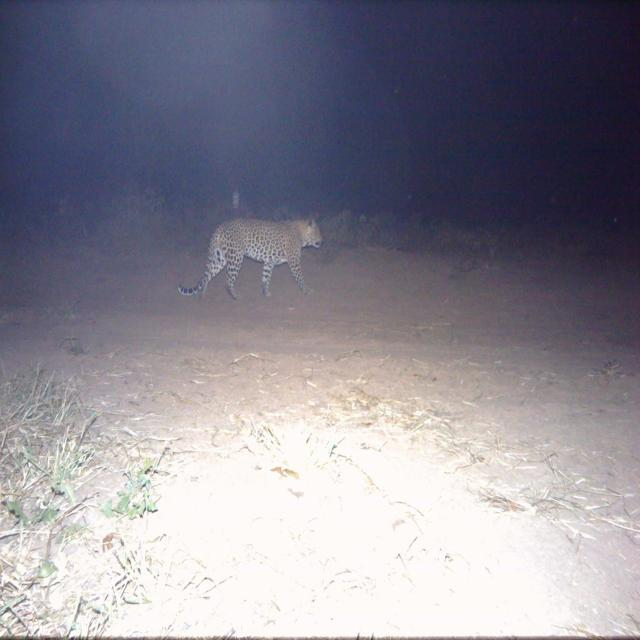Leopard: (169, 213, 336, 304)
